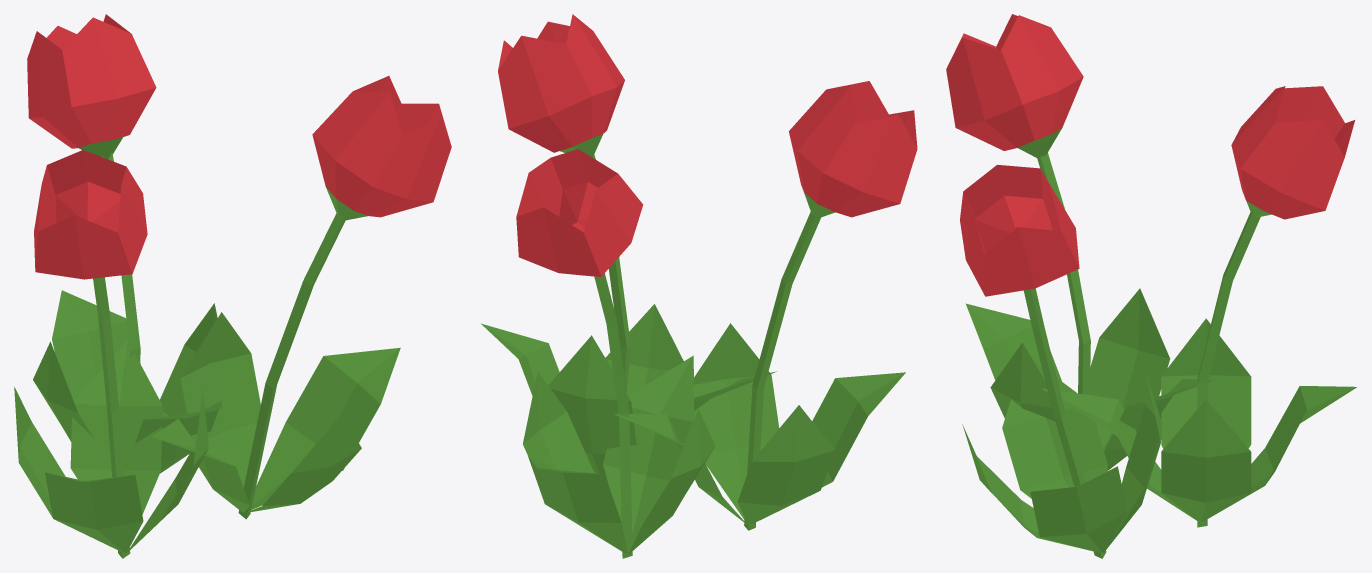
File: roses.glb
The picture shows the model from 3 angles, left to right: view 1: azimuth 30°, elevation 25°; view 2: azimuth 150°, elevation 25°; view 3: azimuth 270°, elevation 25°; orthographic projection. The views are drawn at different scales.
Visible parts, largest first — view 1: roses; view 2: roses; view 3: roses.
Part boxes in pixels (x1,y1,x2,y2): roses: [14, 14, 451, 558]; roses: [481, 14, 917, 558]; roses: [946, 14, 1356, 558].
Bounding box in the file's own units: 0.7085 × 0.736 × 0.619.
Materials: 1 (1 with a texture image).
